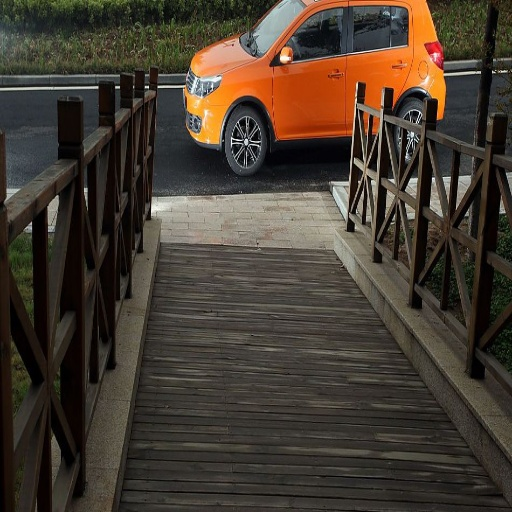back_left_door: (344, 2, 412, 128)
front_left_door: (270, 2, 348, 136)
